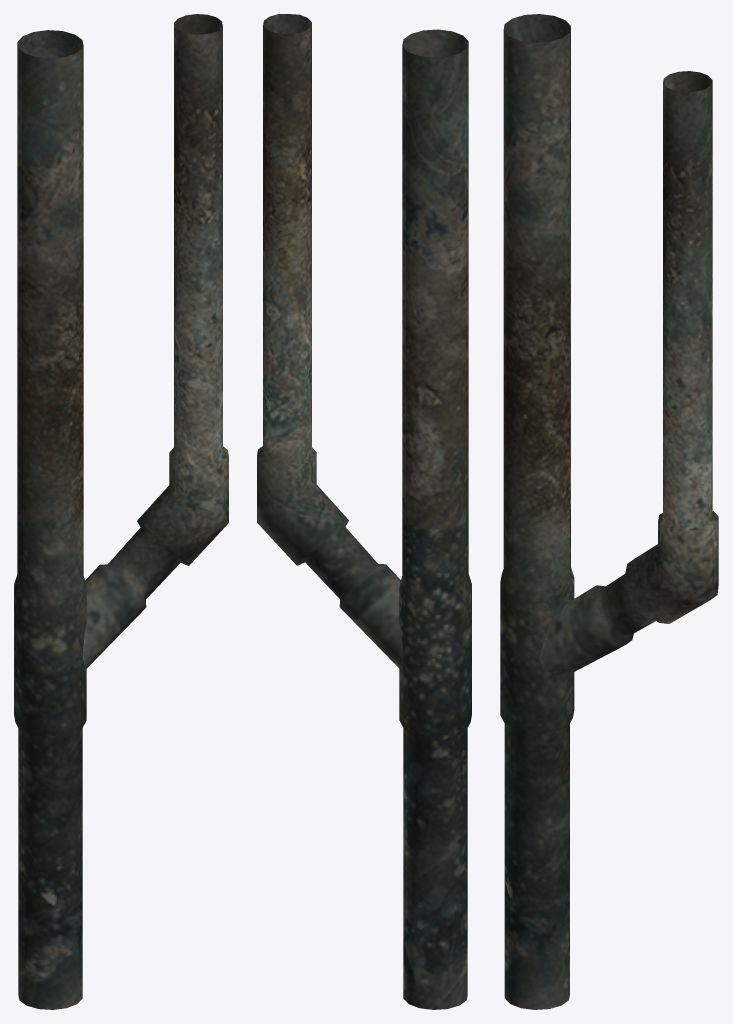
File: Pipe_Wye.fbx
3 views of the same model, side by side, from view 1: azimuth 30°, elevation 25°; view 2: azimuth 150°, elevation 25°; view 3: azimuth 330°, elevation 25° (orthographic).
Parts seen in each view (by area): view 1: PipeWerk; view 2: PipeWerk; view 3: PipeWerk.
Part boxes in pixels (x1,y1,x2,y2): PipeWerk: (14, 14, 228, 1009); PipeWerk: (257, 14, 471, 1009); PipeWerk: (500, 14, 718, 1009).
Size of the model in its own units: 103 by 456 by 31.9.
